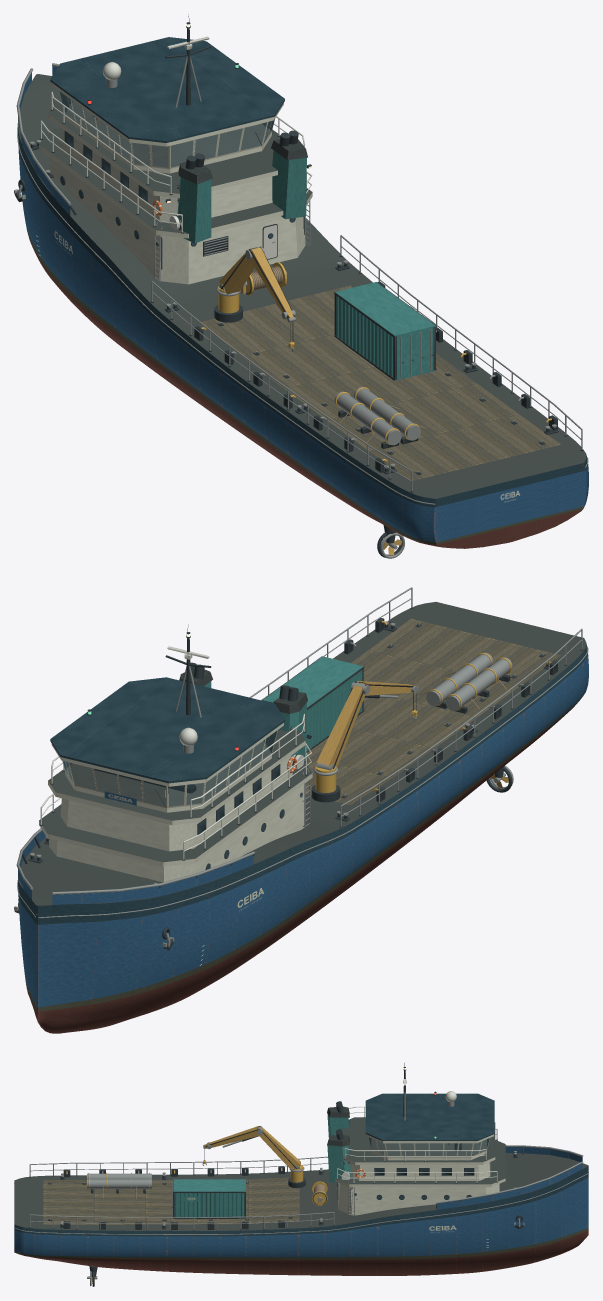
Rendered from supply.fbx.
The picture shows the model from 3 angles, top to bottom: view 1: azimuth 30°, elevation 25°; view 2: azimuth 150°, elevation 25°; view 3: azimuth 270°, elevation 25°; orthographic projection. The views are drawn at different scales.
Visible parts, largest first — view 1: supply_assembly; view 2: supply_assembly; view 3: supply_assembly.
Part boxes in pixels (x1,y1,x2,y2): supply_assembly: [14, 14, 588, 558]; supply_assembly: [14, 587, 588, 1033]; supply_assembly: [14, 1063, 588, 1286].
Bounding box in the file's own units: 10.54 × 17.38 × 43.54.
Materials: 14 (3 with a texture image).
